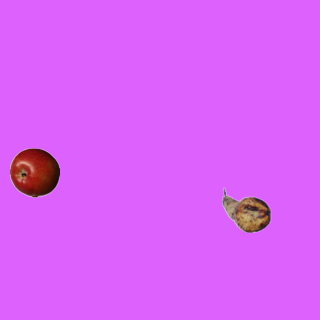Apple Braeburn: (9, 147, 59, 197)
Pear Abate: (221, 185, 271, 235)
